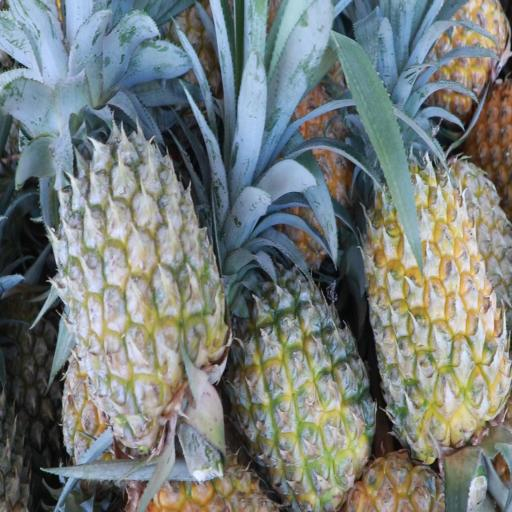------------------------------: (67, 140, 226, 442)
Pineapple - v8 v1: (372, 168, 509, 456), (235, 275, 371, 502), (422, 2, 510, 106)
